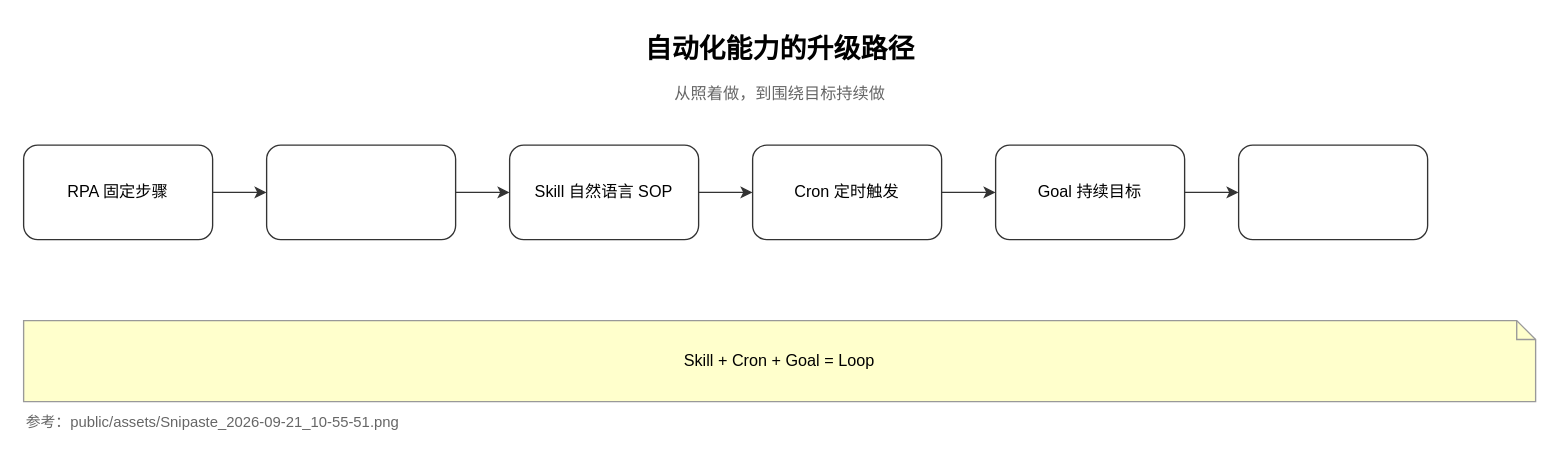
Image size: 1559x456. Some labels were removed from this diagram. Here are the shapes that lost their labels. From the top down, the centre of each, then its label:
(360,192): Workflow 节点编排
(1332,192): Loop 自主循环
